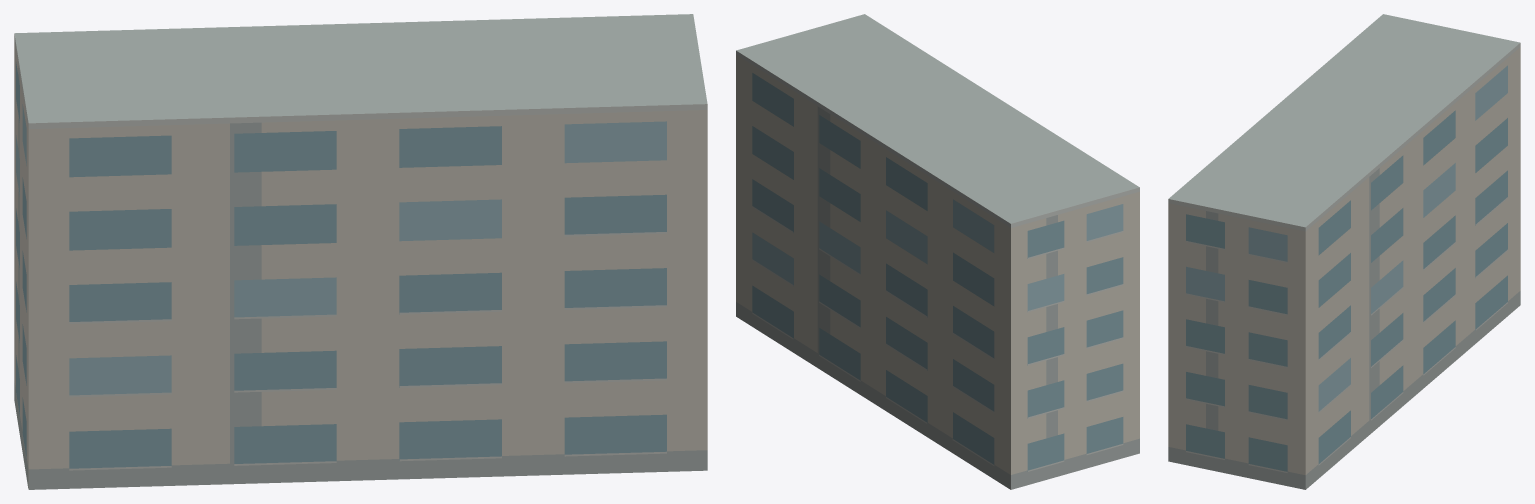
The model's file is residential-82f47b27-488d-4cb7-a466-550888d5a6b9.glb.
3 views of the same model, side by side, from view 1: azimuth 30°, elevation 25°; view 2: azimuth 150°, elevation 25°; view 3: azimuth 270°, elevation 25° (orthographic). The views are drawn at different scales.
Parts seen in each view (by area): view 1: residential-82f47b27-488d-4cb7-a466-550888d5a6b9.tmp; view 2: residential-82f47b27-488d-4cb7-a466-550888d5a6b9.tmp; view 3: residential-82f47b27-488d-4cb7-a466-550888d5a6b9.tmp.
Boxes of the visible parts, x1=… form: residential-82f47b27-488d-4cb7-a466-550888d5a6b9.tmp: x1=14, y1=14, x2=707, y2=489; residential-82f47b27-488d-4cb7-a466-550888d5a6b9.tmp: x1=736, y1=14, x2=1139, y2=489; residential-82f47b27-488d-4cb7-a466-550888d5a6b9.tmp: x1=1168, y1=14, x2=1520, y2=489.
Size of the model in its own units: 26.59 by 15.25 by 18.56.
